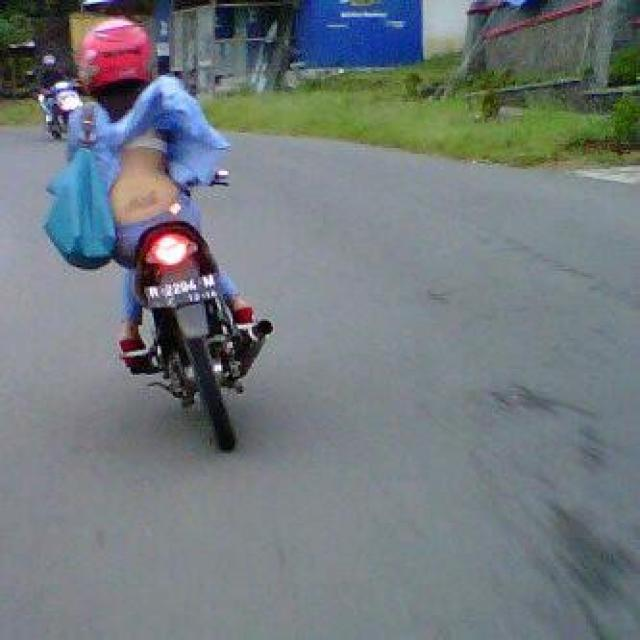plate: (144, 275, 217, 302)
